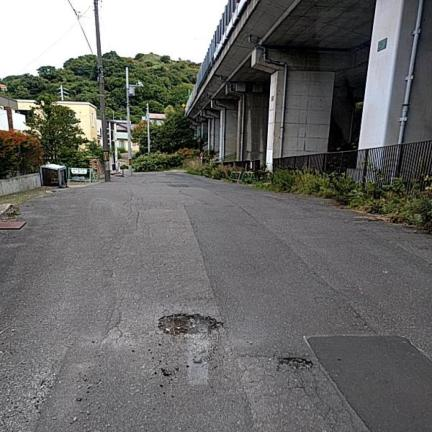Road: (0, 173, 431, 431)
